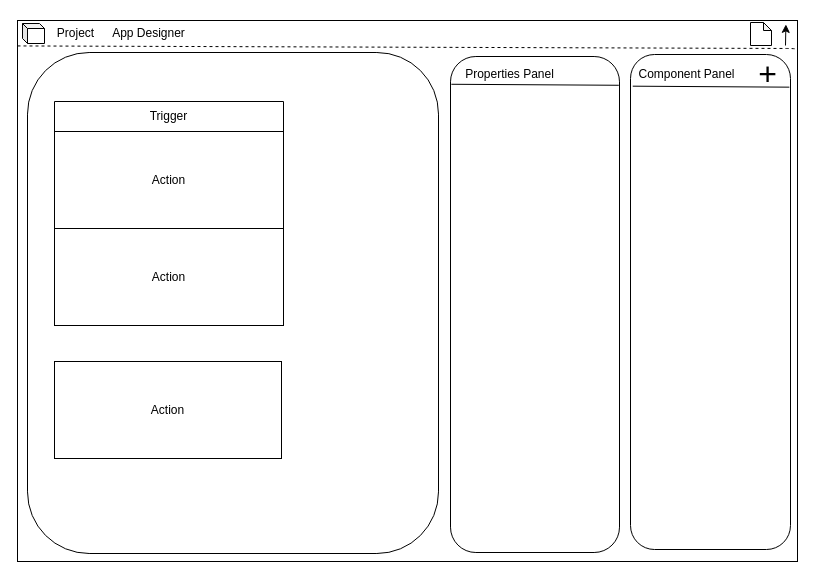
The diagram is 815 pixels wide and 580 high, and some of its shapes have lost their labels. Here are the shapes that lost their labels. From the top down, the box of each, then its label:
(450, 56, 620, 552): No Properties To Show
(630, 54, 790, 550): No Components Yet !
